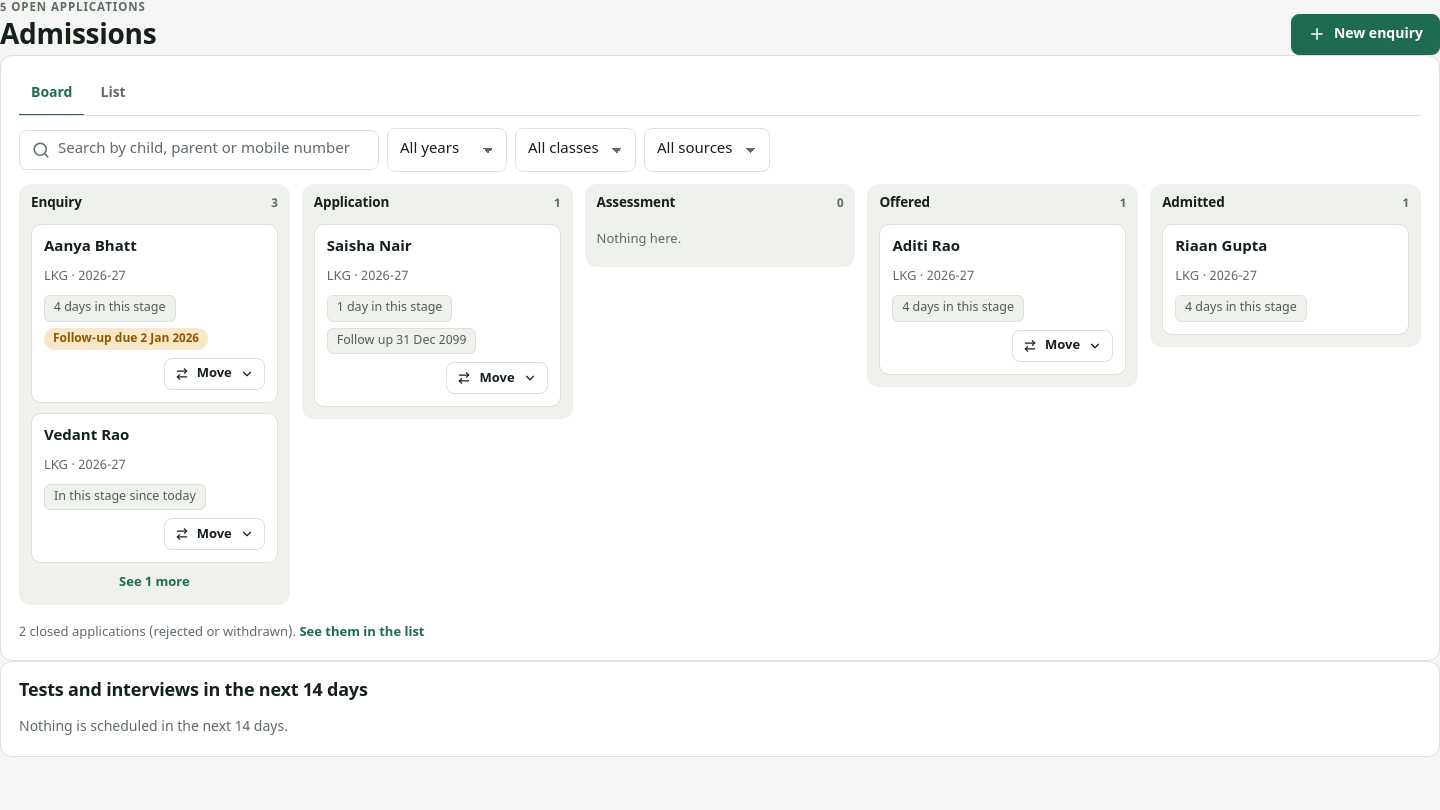
Test case: The admissions board › moves a card through the menu with the offer dates
Check: the element with test id "admissions-board" is shown, box 19,184 -> 1421,611
Click the button "Move" below "Follow up 31 Dec 2099" at (497, 378), box 446,362 -> 548,394
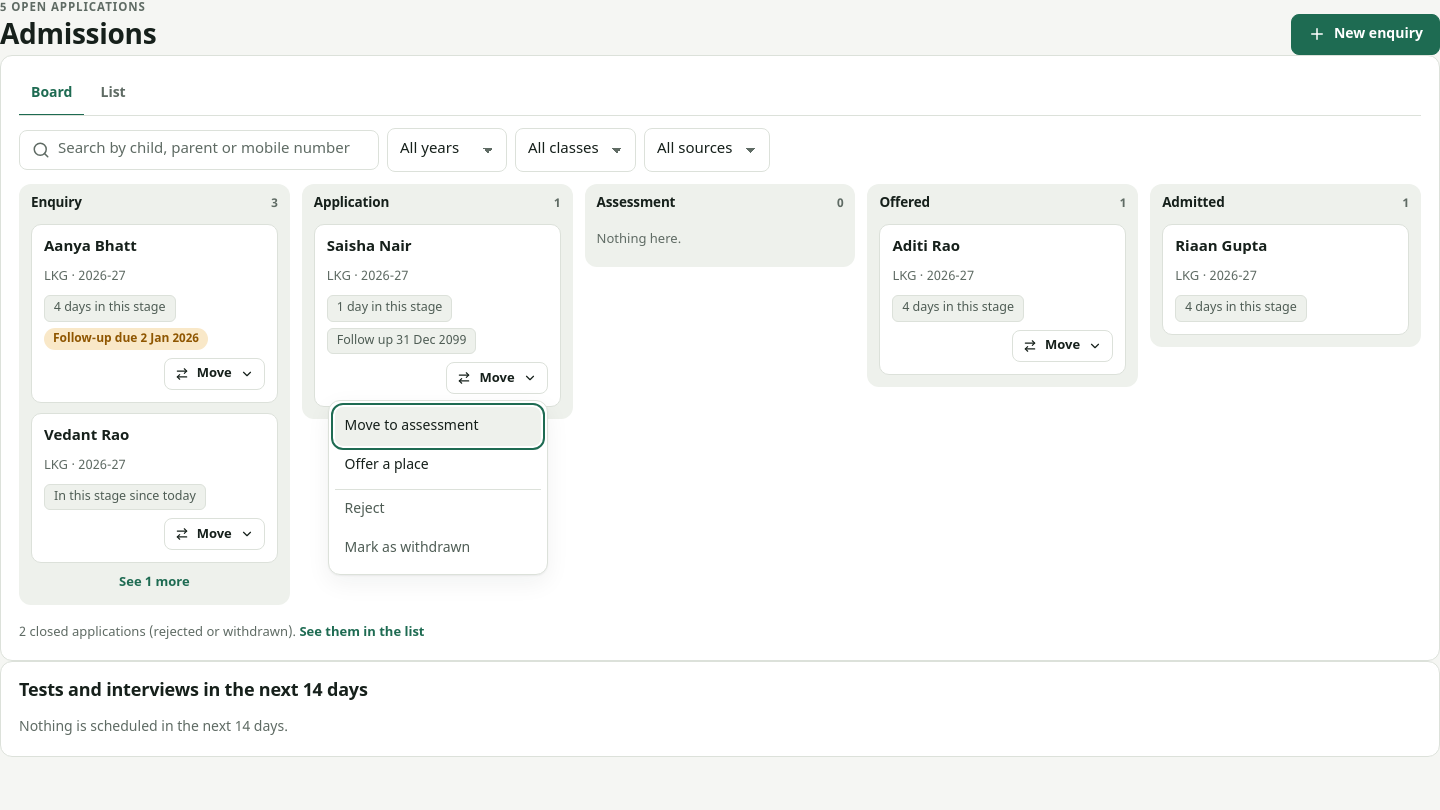
Check: the menu items read "Move to assessment", "Offer a place", "Reject", "Mark as withdrawn", in this order
Click the menu item "Offer a place" at (438, 466), box 335,446 -> 541,485
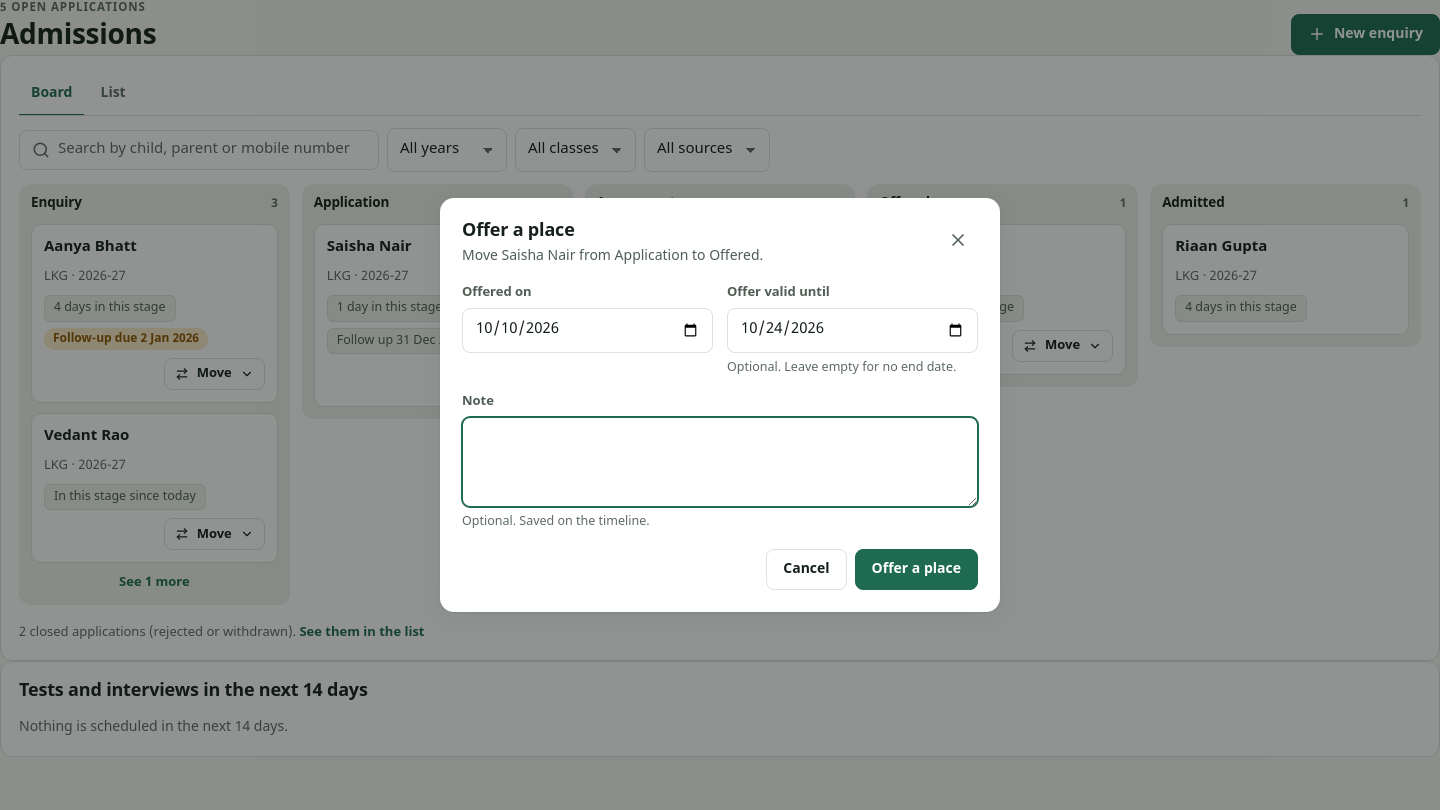
Check: the text "Move Saisha Nair from Application to Offered." is shown, box 462,247 -> 763,267
Check: the date field labelled "Offered on" holds "2026-10-10", box 462,308 -> 713,353
Check: the date field labelled "Offer valid until" holds "2026-10-24", box 727,308 -> 978,353
Click the button "Offer a place" at (916, 570), box 855,549 -> 978,590
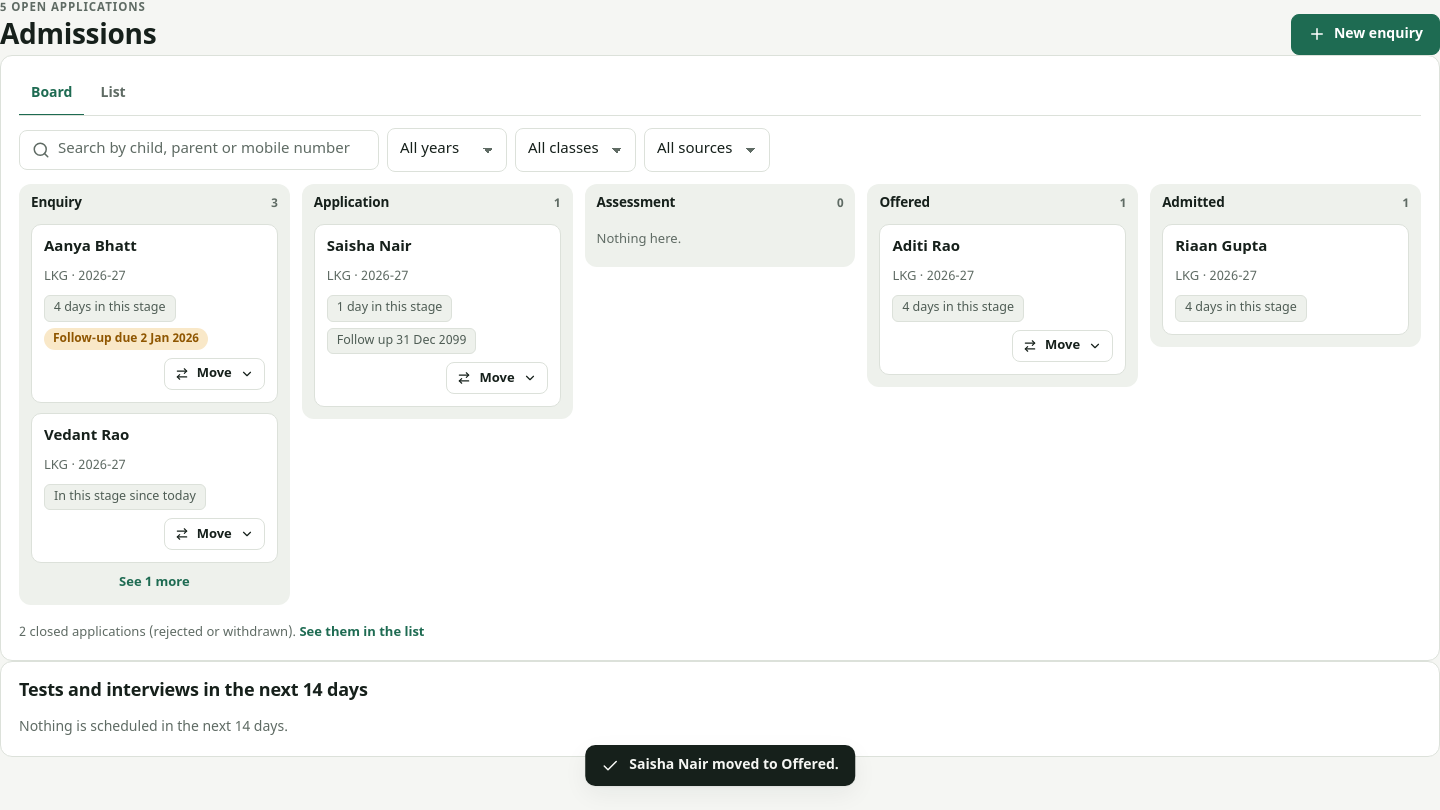
Check: the text "Saisha Nair moved to Offered." is shown, box 585,745 -> 855,786
